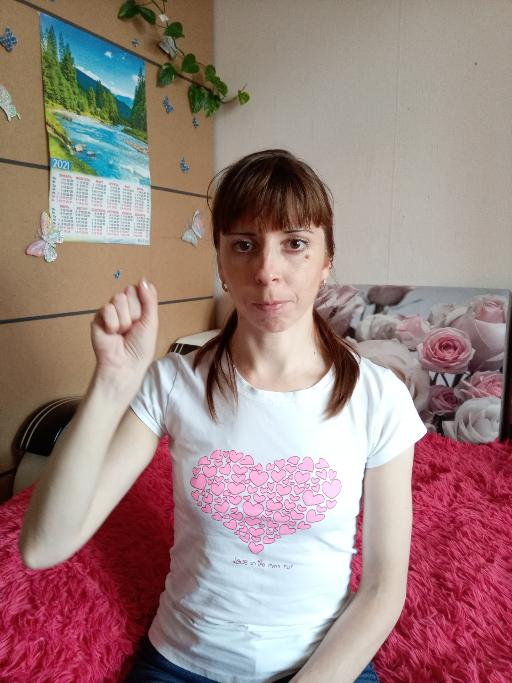fist: (86, 275, 166, 379)
